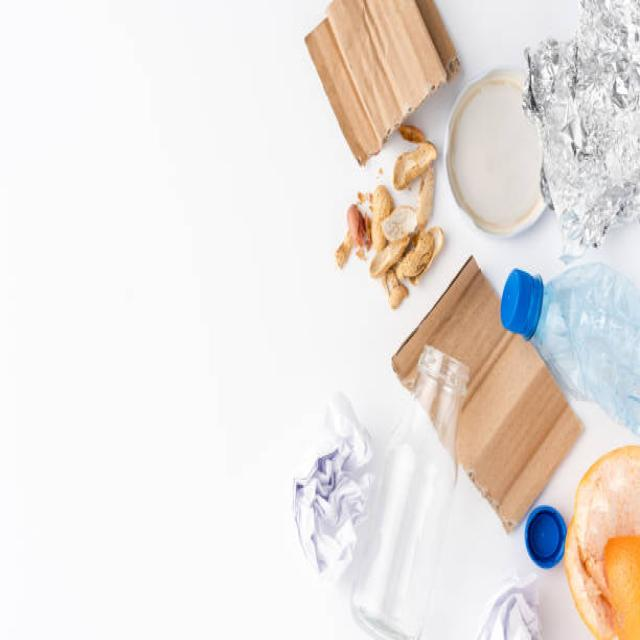cardboard: (286, 6, 469, 126)
glass: (371, 323, 461, 626)
paper: (517, 32, 640, 246)
